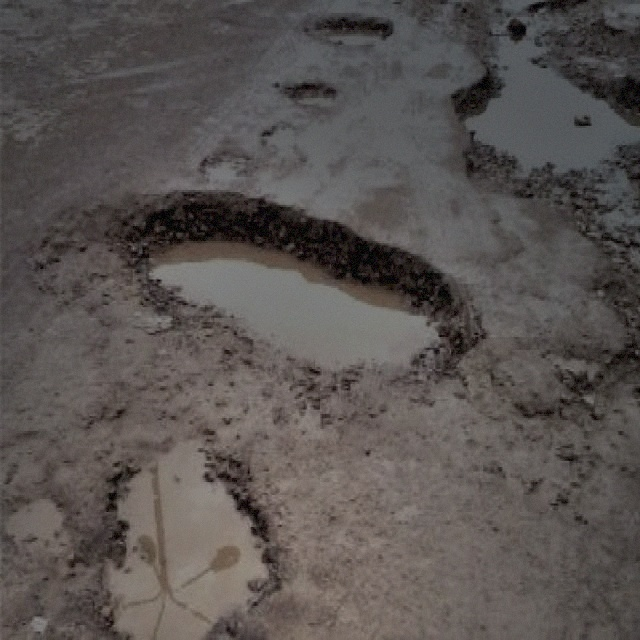pothole: (31, 184, 476, 406), (444, 0, 638, 341), (96, 427, 285, 638), (541, 346, 638, 410), (302, 9, 393, 51), (1, 491, 68, 542), (197, 147, 254, 184), (259, 119, 304, 160), (280, 79, 338, 109)
